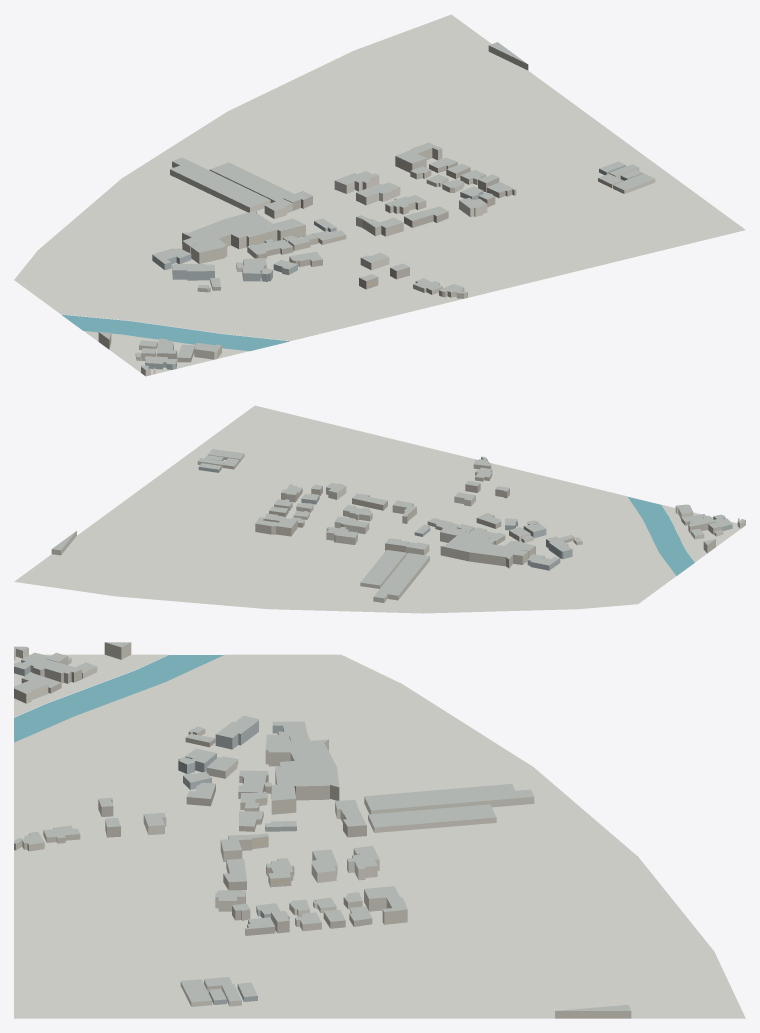
The picture shows the model from 3 angles, top to bottom: view 1: azimuth 30°, elevation 25°; view 2: azimuth 150°, elevation 25°; view 3: azimuth 270°, elevation 25°; orthographic projection. The views are drawn at different scales.
Parts seen in each view (by area): view 1: city; view 2: city; view 3: city.
Boxes of the visible parts, x1,y1,x2,y2 form: city: (14, 14, 745, 376); city: (14, 405, 745, 613); city: (14, 642, 745, 1018).
Size of the model in its own units: 500 by 9.18 by 425.
